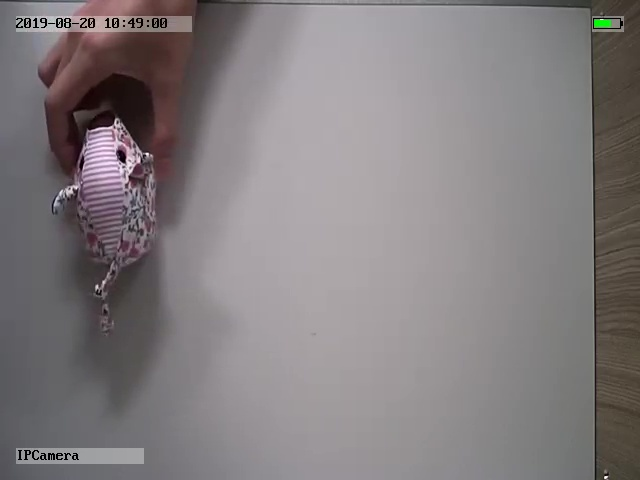pig: (50, 114, 162, 336)
